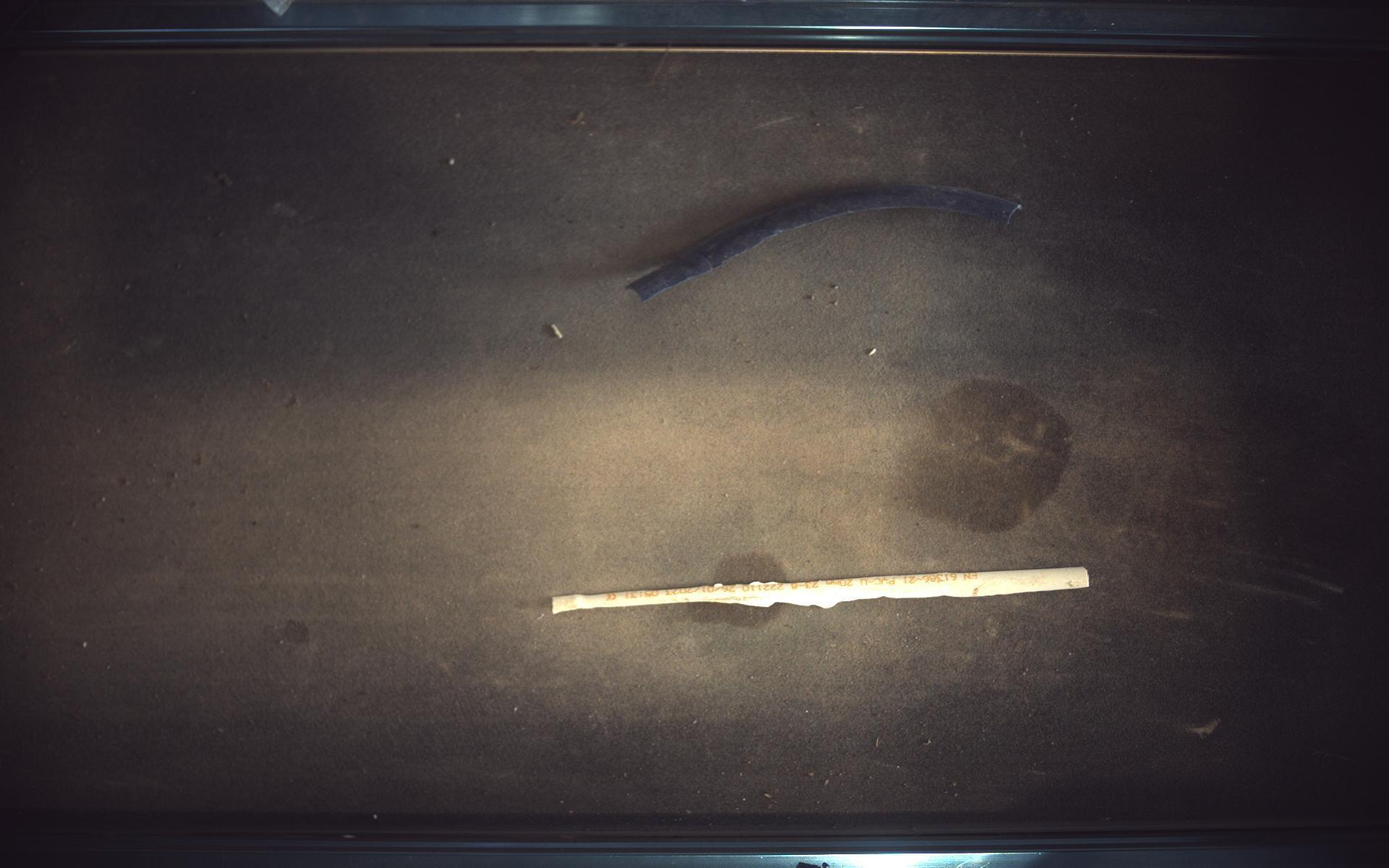pipes: (552, 567, 1092, 615)
plastic: (629, 184, 1023, 300)
